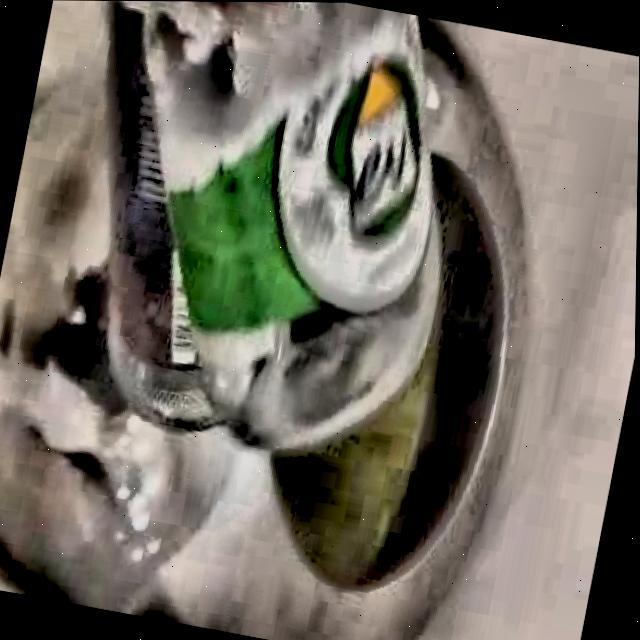glass: (108, 1, 439, 455)
